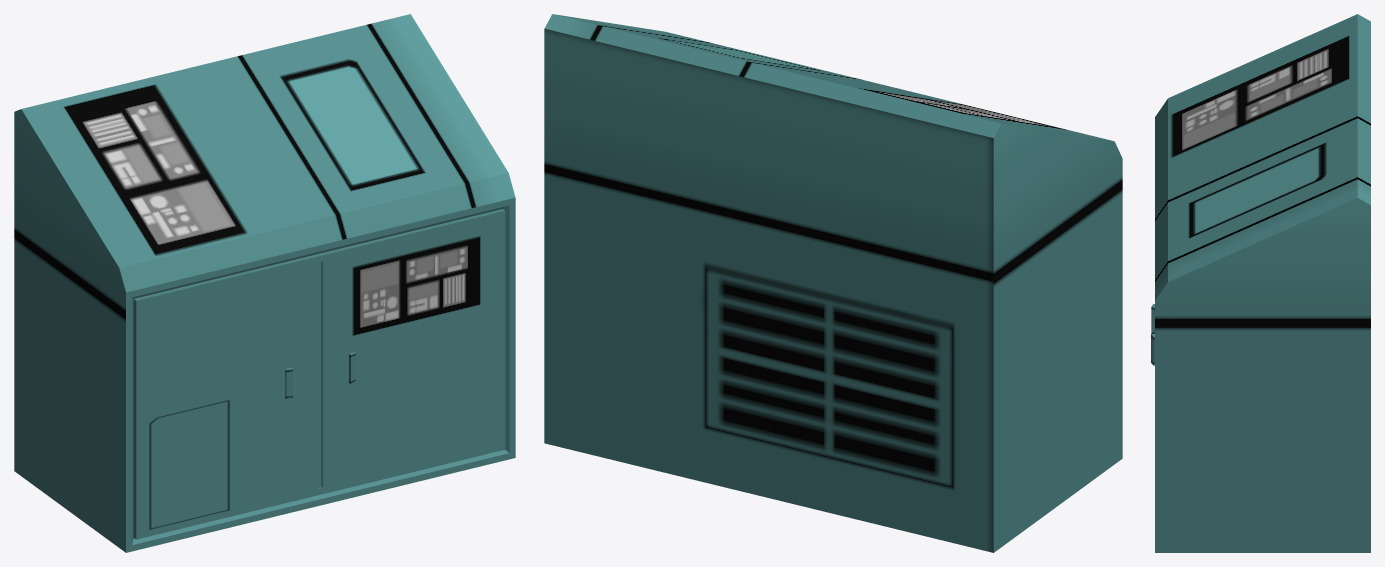
The model's file is Terminal_1.FBX.
The picture shows the model from 3 angles, left to right: view 1: azimuth 30°, elevation 25°; view 2: azimuth 150°, elevation 25°; view 3: azimuth 270°, elevation 25°; orthographic projection. The views are drawn at different scales.
Visible parts, largest first — view 1: Terminal_00; view 2: Terminal_00; view 3: Terminal_00.
Part boxes in pixels (left/top/right/bottom): Terminal_00: left=14, top=14, right=515, bottom=552; Terminal_00: left=544, top=14, right=1122, bottom=552; Terminal_00: left=1151, top=14, right=1370, bottom=552.
Bounding box in the file's own units: 1.65 × 1.48 × 0.8313.
Materials: 1 (1 with a texture image).
